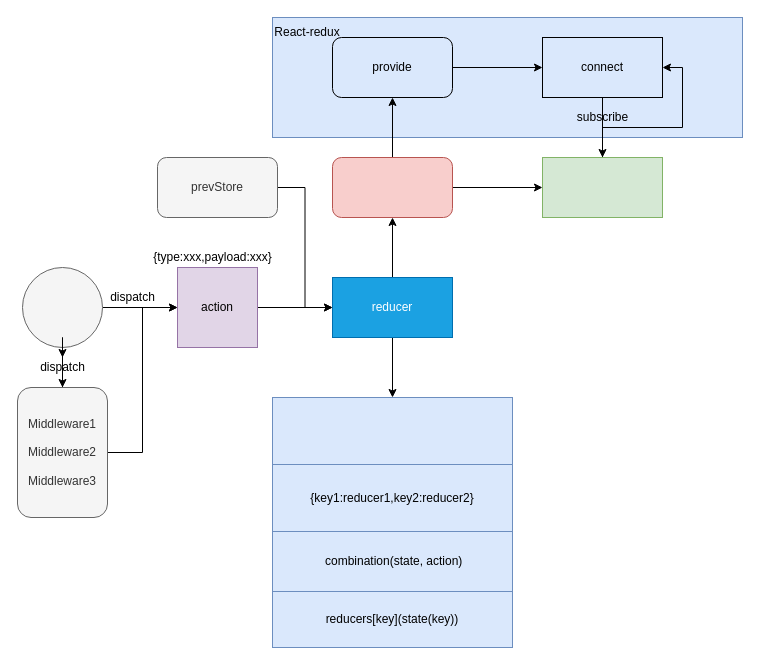
This 760x665 diagram has some shape labels left out. The centre of each missing label's shape, as x and y in pixels:
"combineReducers({key1:reducer1},{key2:reducer2})" belongs at point (392, 430).
"listener" belongs at point (602, 187).
"store" belongs at point (392, 187).
"view" belongs at point (62, 307).
